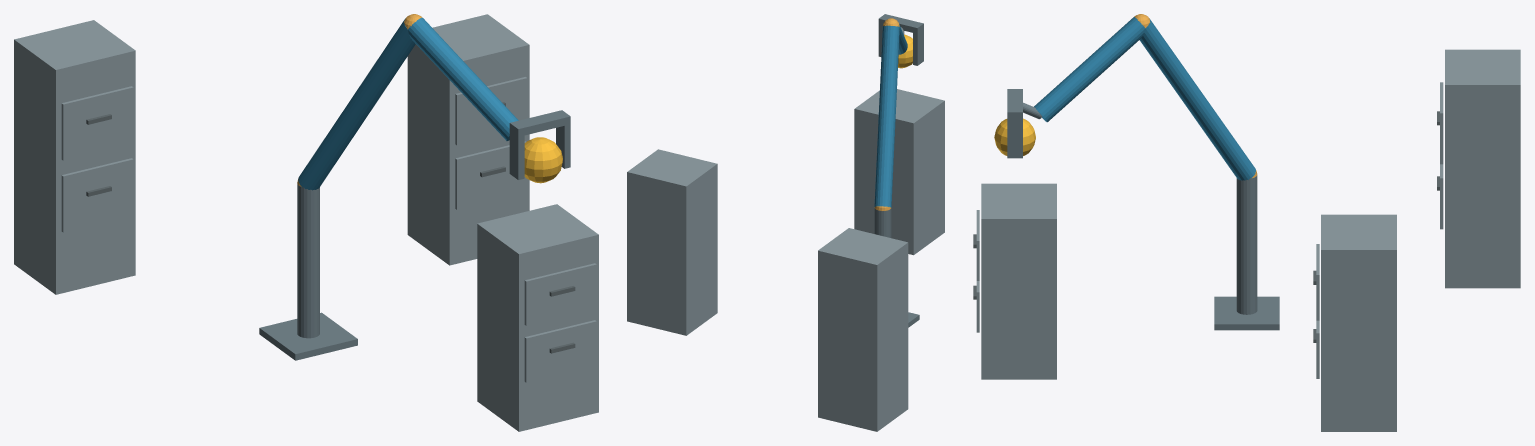
3 renders of one model, left to right at view 1: azimuth 30°, elevation 25°; view 2: azimuth 150°, elevation 25°; view 3: azimuth 270°, elevation 25°, orthographic. The views are drawn at different scales.
Visible parts, largest first — view 1: cabinet_3 body, cabinet_1 body, cabinet_2 body, moving link 1, cabinet_3 drawer front, cabinet_3 drawer front.001, fixed post, moving link 2, cabinet_1 drawer front.001, cabinet_1 drawer front, cabinet_2 drawer front, cabinet_2 drawer front.001 (+4 smaller); view 2: cabinet_3 body, cabinet_2 body, cabinet_1 body, moving link 1, fixed post, gripper bridge, gripper finger -1, ball ball_1; view 3: cabinet_3 body, cabinet_2 body, cabinet_1 body, moving link 1, fixed post, moving link 2, pedestal, ball ball_1, gripper finger 1.
Part boxes in pixels (bbox=[...]): cabinet_3 body: bbox=[14, 20, 135, 294]; cabinet_1 body: bbox=[477, 204, 598, 431]; cabinet_2 body: bbox=[407, 14, 529, 265]; moving link 1: bbox=[298, 18, 415, 190]; cabinet_3 drawer front: bbox=[61, 158, 133, 232]; cabinet_3 drawer front.001: bbox=[61, 86, 133, 160]; fixed post: bbox=[297, 184, 319, 338]; moving link 2: bbox=[408, 17, 518, 140]; cabinet_1 drawer front.001: bbox=[524, 263, 596, 325]; cabinet_1 drawer front: bbox=[524, 320, 596, 382]; cabinet_2 drawer front: bbox=[455, 141, 527, 209]; cabinet_2 drawer front.001: bbox=[455, 77, 527, 145]; cabinet_3 body: bbox=[818, 228, 908, 431]; cabinet_2 body: bbox=[627, 149, 717, 335]; cabinet_1 body: bbox=[854, 89, 944, 255]; moving link 1: bbox=[874, 25, 899, 207]; fixed post: bbox=[874, 208, 891, 238]; gripper bridge: bbox=[878, 14, 923, 33]; gripper finger -1: bbox=[913, 29, 923, 65]; ball ball_1: bbox=[898, 34, 912, 68]; cabinet_3 body: bbox=[1445, 49, 1520, 288]; cabinet_2 body: bbox=[1321, 214, 1396, 431]; cabinet_1 body: bbox=[981, 183, 1056, 379]; moving link 1: bbox=[1139, 18, 1255, 180]; fixed post: bbox=[1236, 175, 1257, 314]; moving link 2: bbox=[1034, 17, 1145, 122]; pedestal: bbox=[1214, 296, 1279, 330]; ball ball_1: bbox=[994, 118, 1035, 155]; gripper finger 1: bbox=[1007, 119, 1022, 158].
Size of the model in its own units: 1.62 by 1.36 by 2.1.
